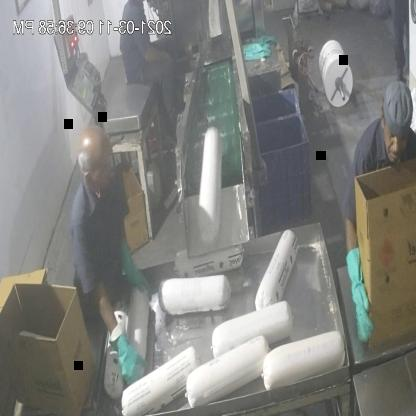no_glove: (137, 30, 176, 69)
